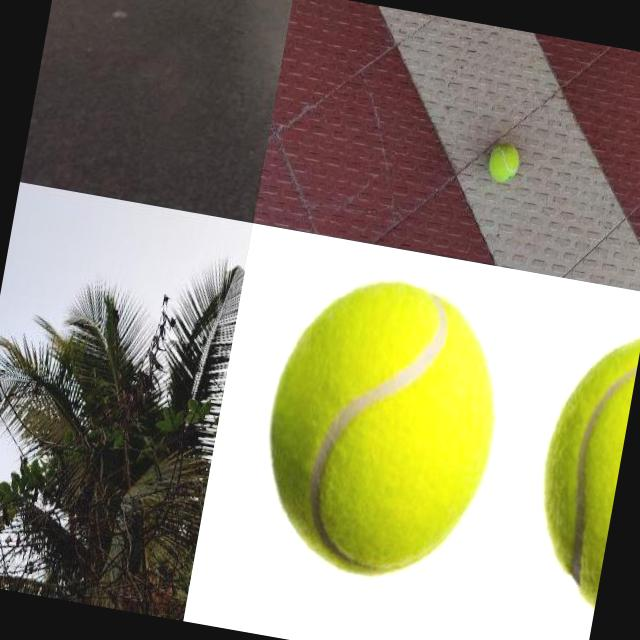Tennis Ball: (247, 262, 518, 594), (521, 314, 640, 617), (486, 140, 522, 183)
